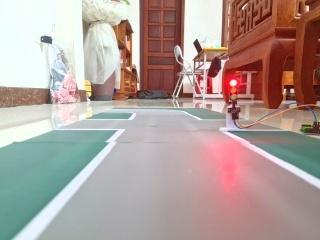red: (221, 73, 242, 110)
